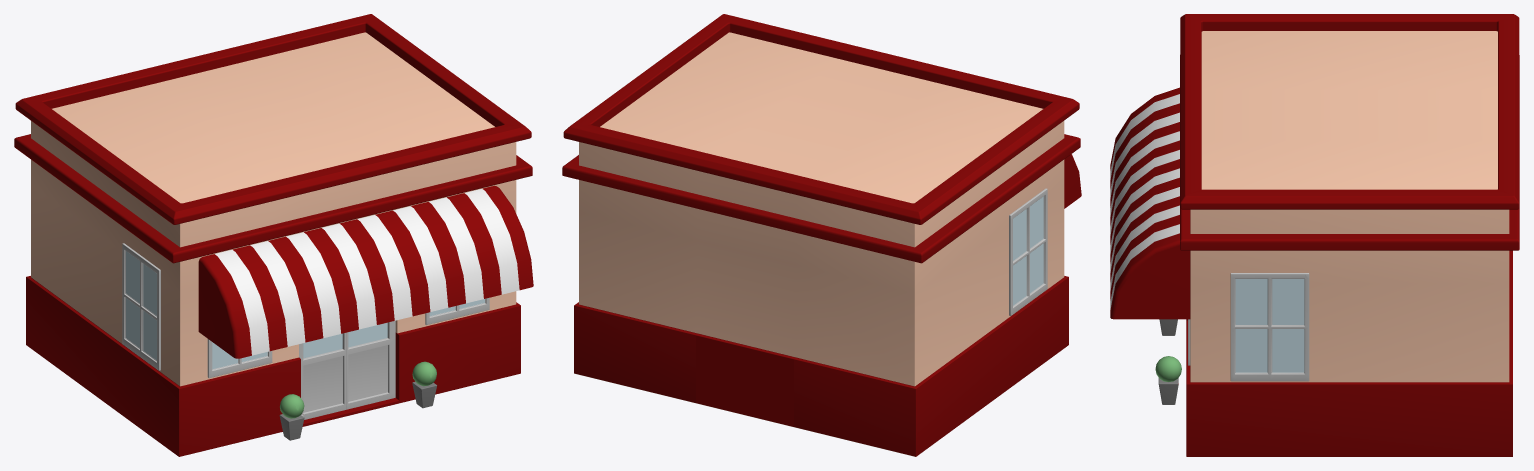
File: Target_Shop-3.fbx
3 renders of one model, left to right at view 1: azimuth 30°, elevation 25°; view 2: azimuth 150°, elevation 25°; view 3: azimuth 270°, elevation 25°, orthographic. The views are drawn at different scales.
Parts seen in each view (by area): view 1: hotdog house1; view 2: hotdog house1; view 3: hotdog house1.
Boxes of the visible parts, bbox=[...] form: hotdog house1: bbox=[14, 14, 533, 456]; hotdog house1: bbox=[562, 14, 1081, 456]; hotdog house1: bbox=[1110, 14, 1519, 456].
Size of the model in its own units: 2086 by 1364 by 1924.
